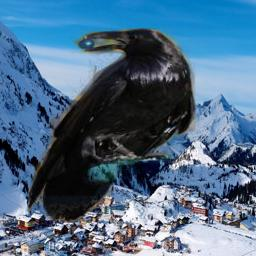Crow: (28, 28, 196, 223)
